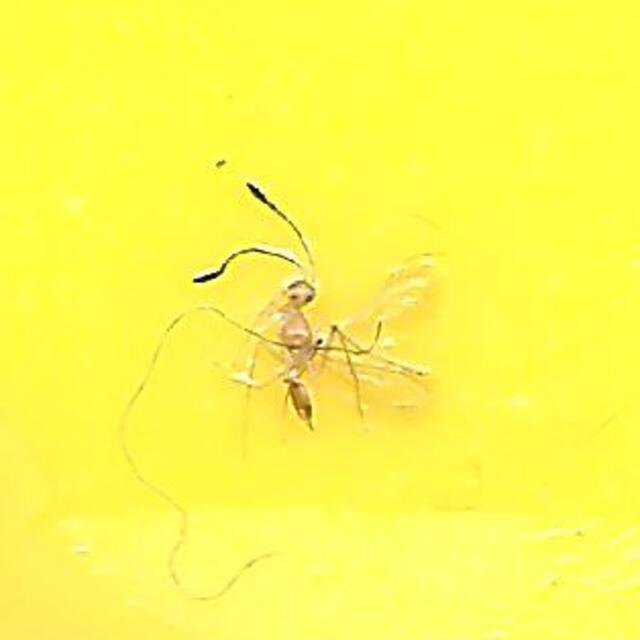Hymenoptera: (204, 192, 436, 448)
